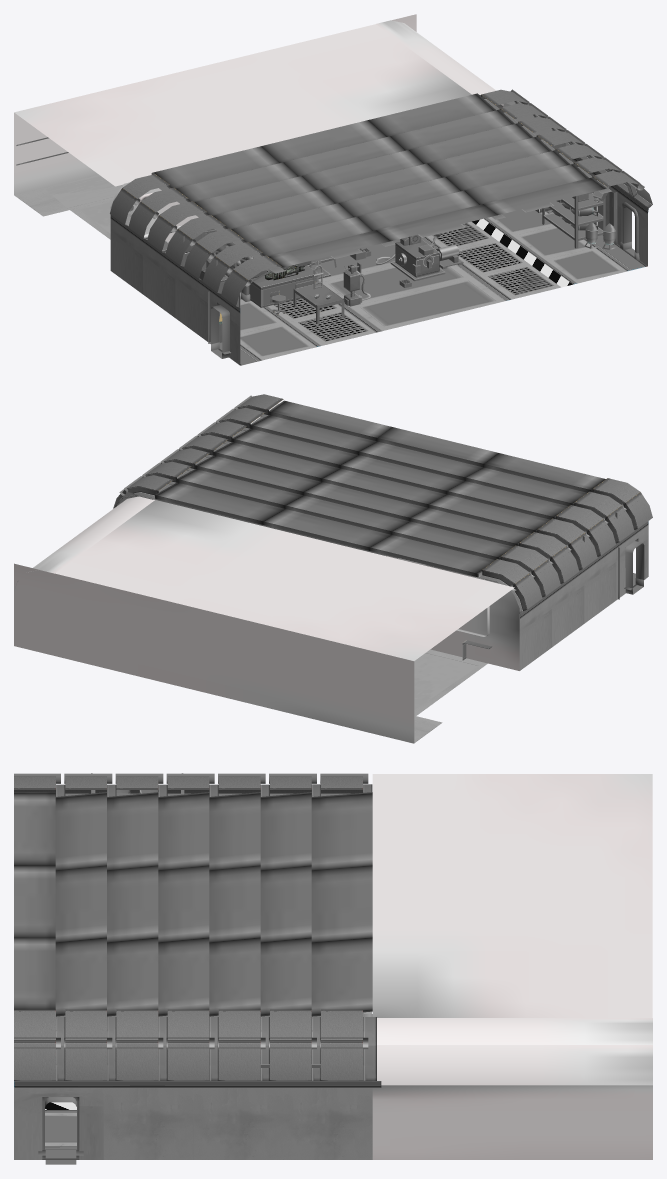
Rendered from MSH_Armory_room_L3_R3_optimized.fbx.
The picture shows the model from 3 angles, top to bottom: view 1: azimuth 30°, elevation 25°; view 2: azimuth 150°, elevation 25°; view 3: azimuth 270°, elevation 25°; orthographic projection. The views are drawn at different scales.
Parts seen in each view (by area): view 1: lightmap0, lightmap1, lightmap-1; view 2: lightmap0, lightmap-1; view 3: lightmap0.
Part boxes in pixels (<box>): lightmap0: <box>14,14,652,365</box>; lightmap1: <box>127,115,616,342</box>; lightmap-1: <box>210,206,634,358</box>; lightmap0: <box>14,394,652,743</box>; lightmap-1: <box>625,541,644,594</box>; lightmap0: <box>14,773,652,1159</box>.
Bounding box in the file's own units: 30.91 × 6.34 × 29.41.
